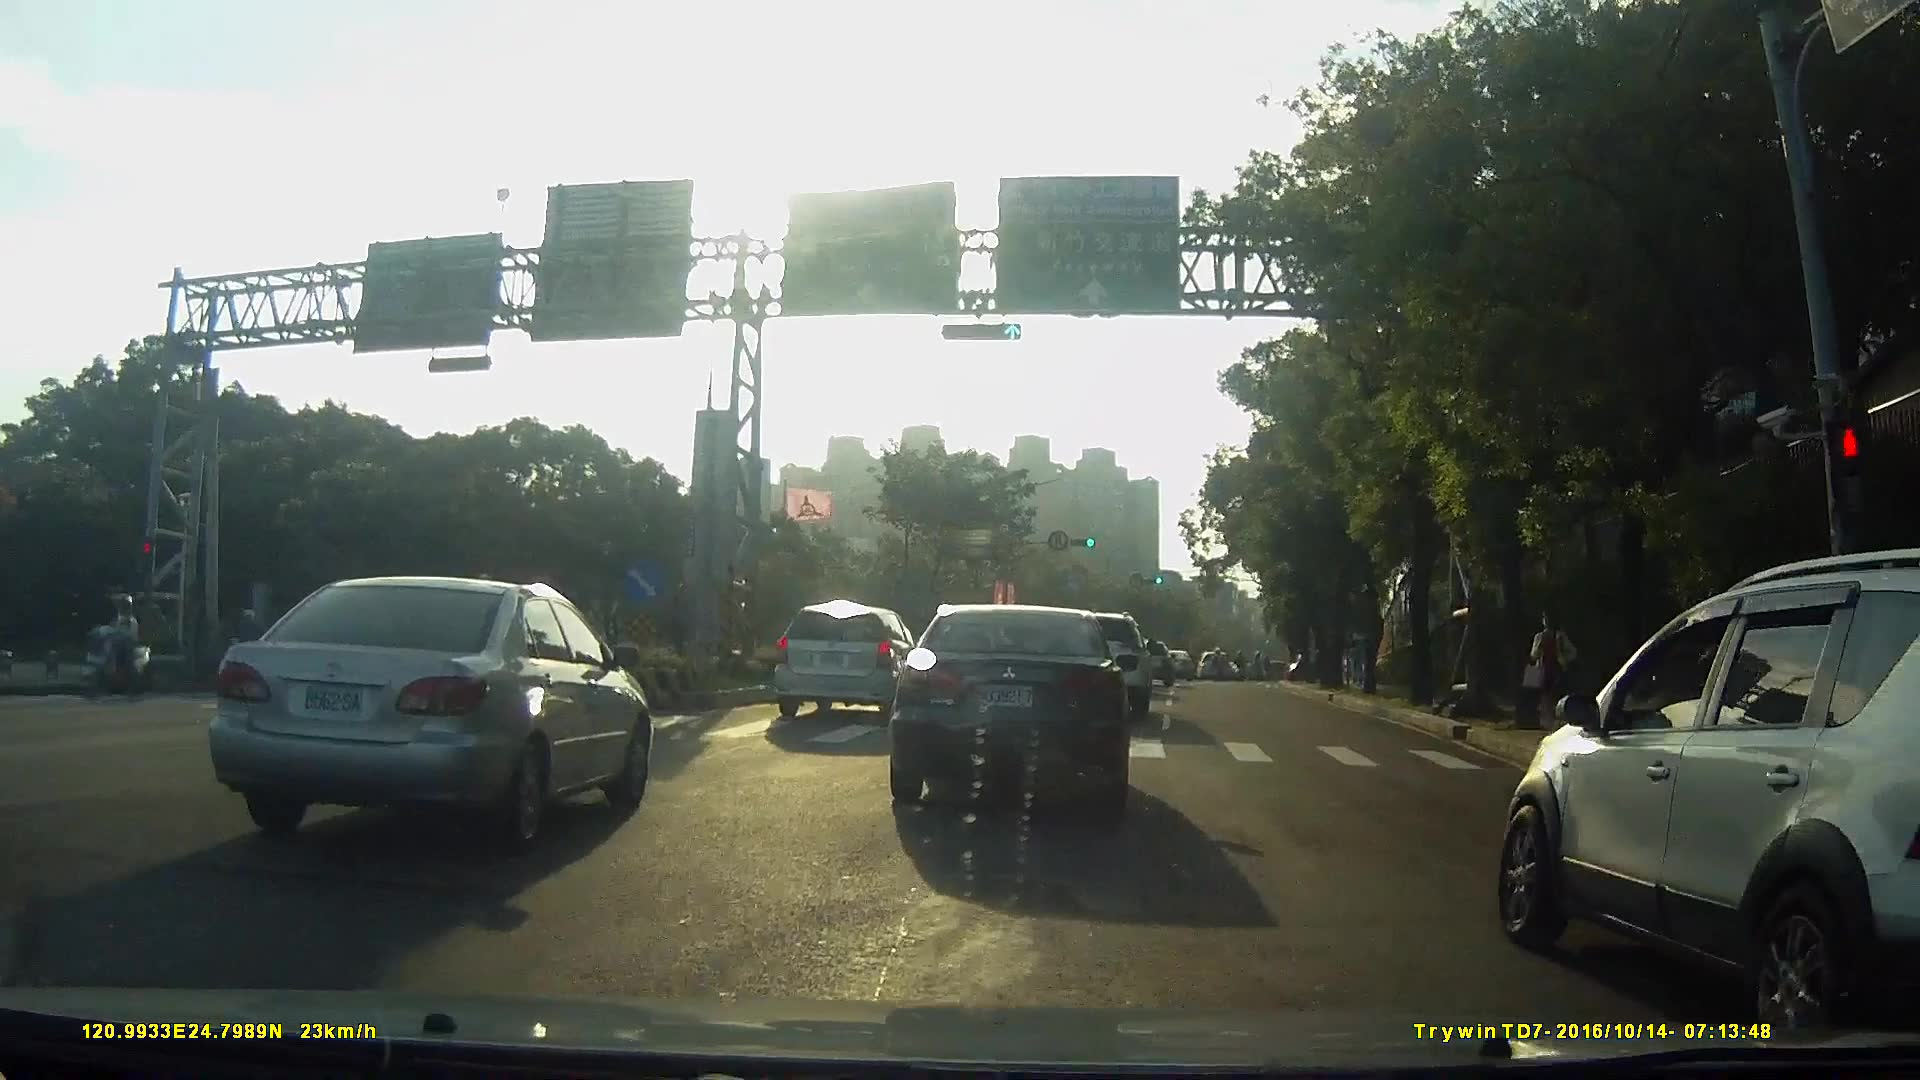pedestrian: (1522, 604, 1583, 751)
rider: (79, 595, 154, 701)
vehicle: (1460, 552, 1920, 1048), (192, 568, 670, 850), (873, 600, 1147, 814), (761, 597, 913, 718), (1186, 645, 1222, 677), (1153, 645, 1187, 677)
